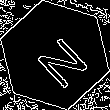N_NW: (23, 23, 87, 87)
